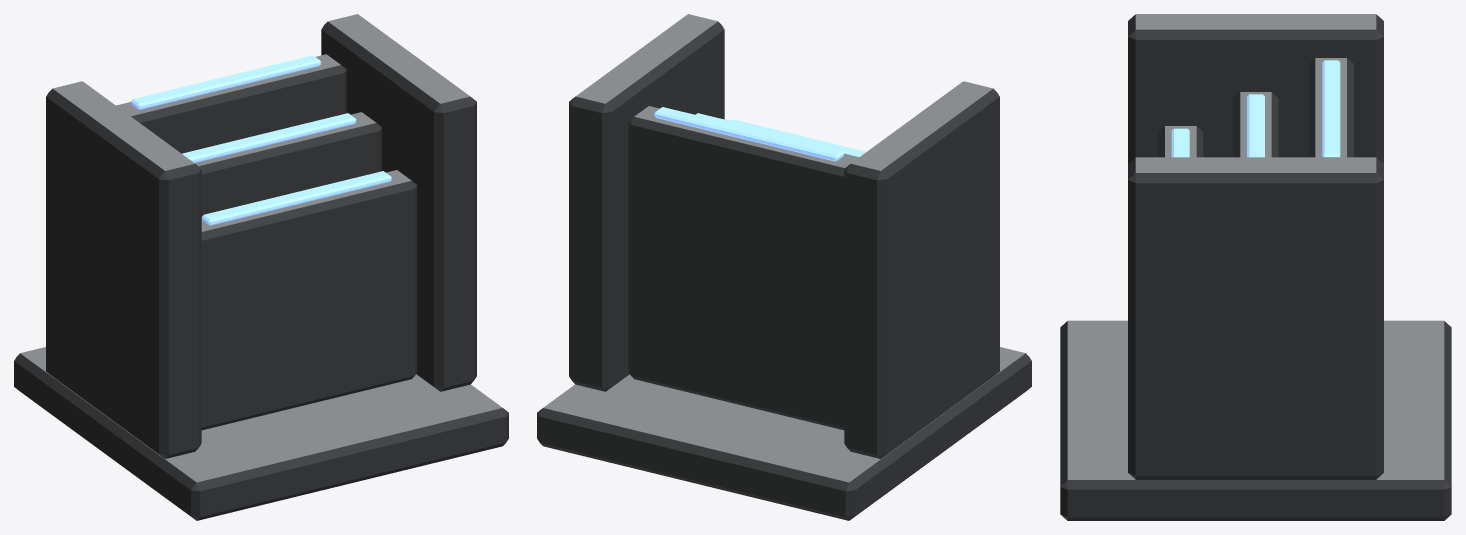
File: R4X_WallDeployer_LOD1.fbx
3 views of the same model, side by side, from view 1: azimuth 30°, elevation 25°; view 2: azimuth 150°, elevation 25°; view 3: azimuth 270°, elevation 25° (orthographic). The views are drawn at different scales.
Visible parts, largest first — view 1: R4X_WallDeployer_LOD1; view 2: R4X_WallDeployer_LOD1; view 3: R4X_WallDeployer_LOD1.
Part boxes in pixels (x1,y1,x2,y2): R4X_WallDeployer_LOD1: (14,14,508,520); R4X_WallDeployer_LOD1: (537,14,1031,520); R4X_WallDeployer_LOD1: (1060,14,1451,520).
Bounding box in the file's own units: 0.52 × 0.51 × 0.52.
